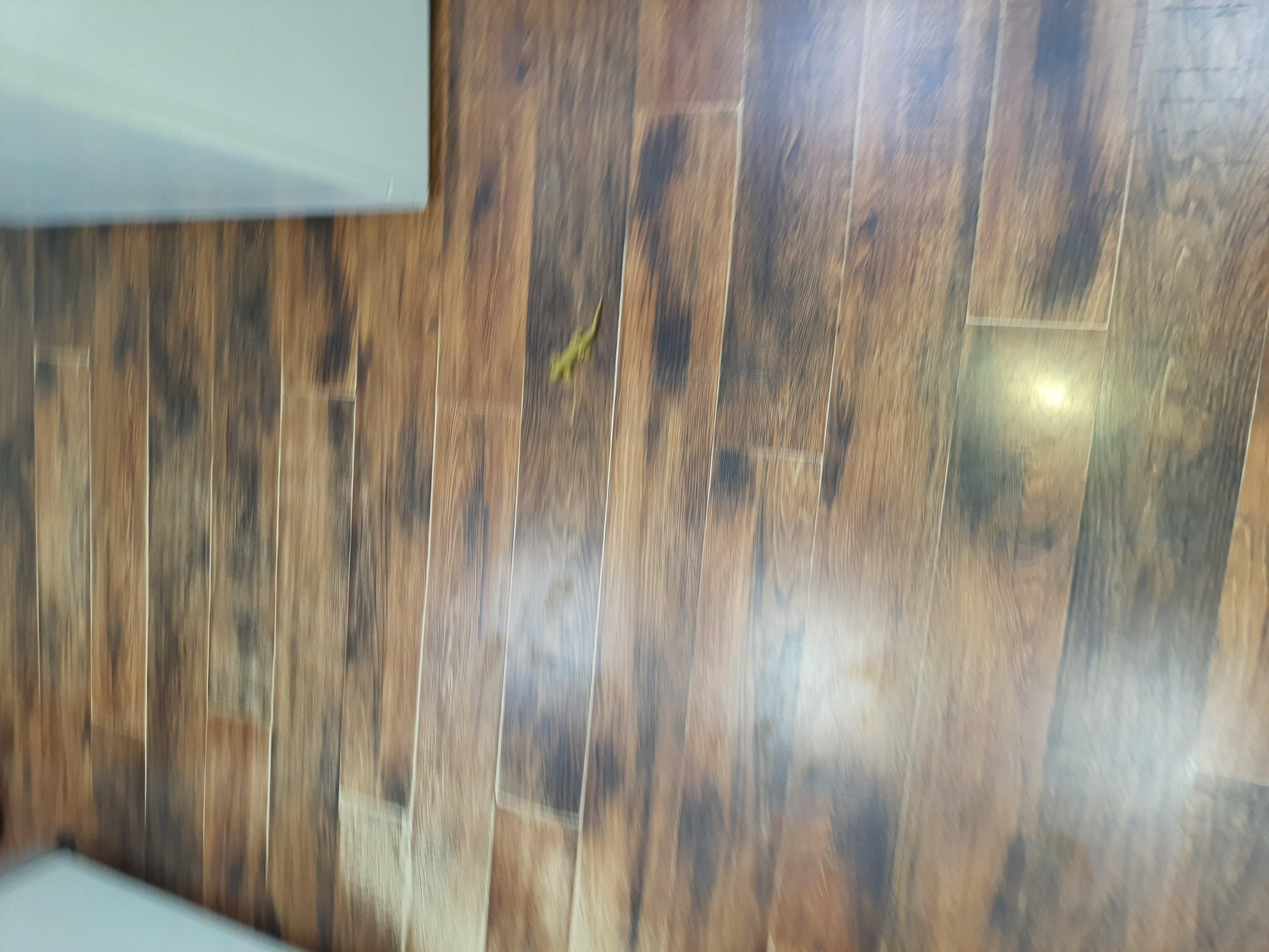lizard: (729, 394, 905, 473)
